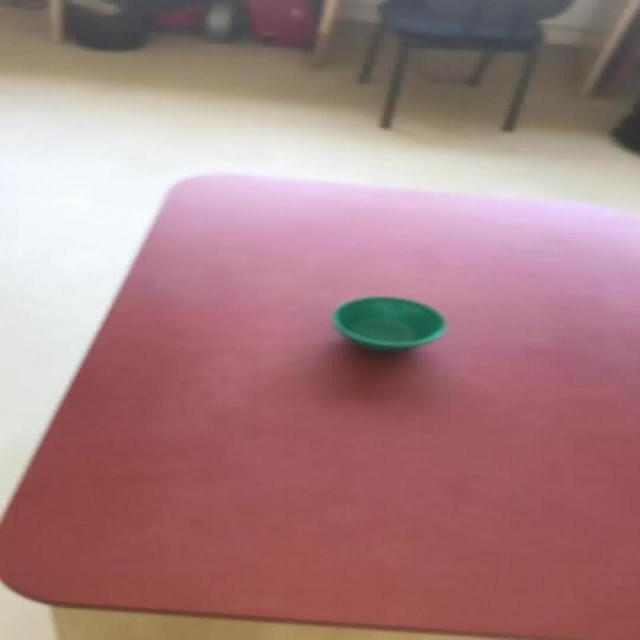Bowl: (330, 295, 446, 350)
